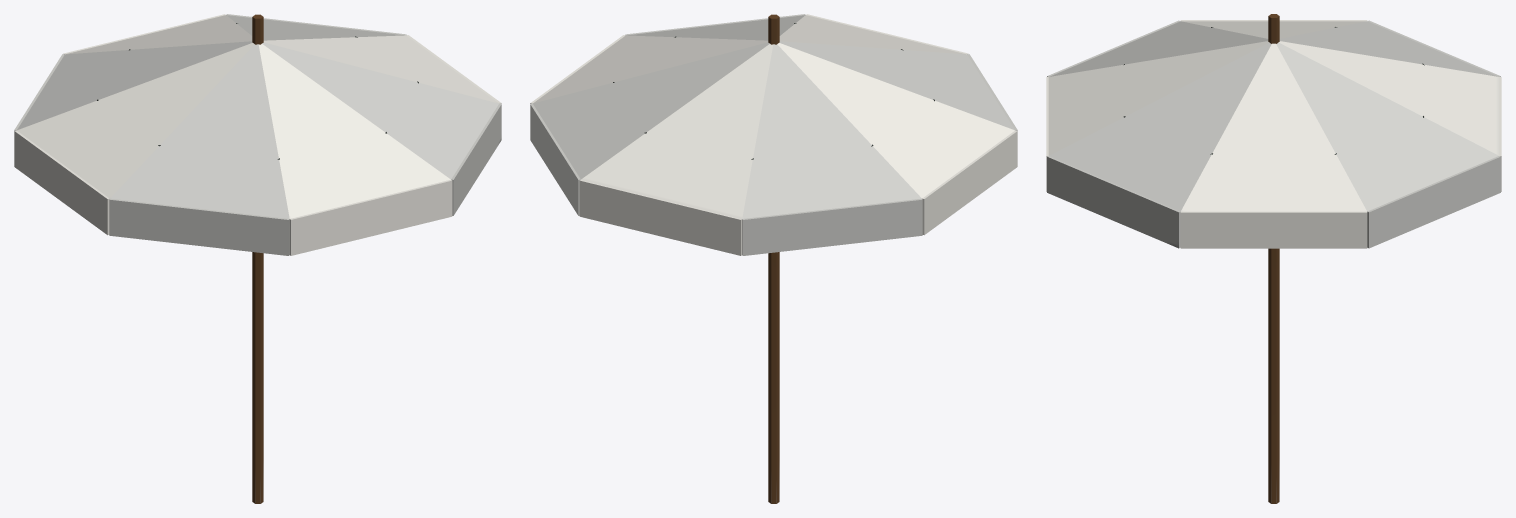
Rendered from slunecnik_f3a245cc.glb.
3 renders of one model, left to right at view 1: azimuth 30°, elevation 25°; view 2: azimuth 150°, elevation 25°; view 3: azimuth 270°, elevation 25°, orthographic.
Parts seen in each view (by area): view 1: dum; view 2: dum; view 3: dum.
Part boxes in pixels (x1,y1,x2,y2): dum: [14, 14, 501, 503]; dum: [530, 14, 1017, 503]; dum: [1046, 14, 1501, 503].
Bounding box in the file's own units: 2.05 × 2.41 × 2.05.
1 material, 1 textured.
